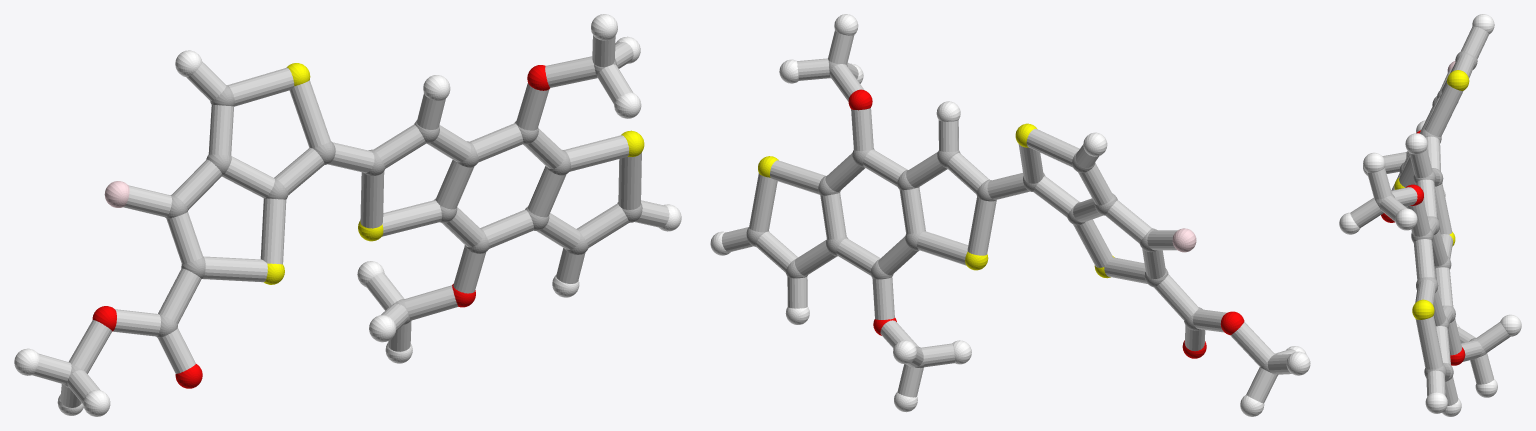
File: Dimethoxy_Benzodithiophene_Phi_20_Theta_30_Methylcarbonyl_3_Fluoro_Thienothiophene.glb
3 views of the same model, side by side, from view 1: azimuth 30°, elevation 25°; view 2: azimuth 150°, elevation 25°; view 3: azimuth 270°, elevation 25° (orthographic). The views are drawn at different scales.
Visible parts, largest first — view 1: grp15205, grp8689, grp1, grp13395, grp7241; view 2: grp15205, grp8689, grp1, grp13395, grp7241; view 3: grp15205, grp8689, grp1, grp7241, grp13395.
Boxes of the visible parts, x1,y1,x2,y2 form: grp15205: [32, 35, 669, 407]; grp8689: [14, 14, 681, 416]; grp1: [64, 59, 642, 387]; grp13395: [92, 65, 549, 388]; grp7241: [264, 63, 644, 284]; grp15205: [722, 30, 1296, 403]; grp8689: [710, 14, 1310, 416]; grp1: [746, 61, 1278, 375]; grp13395: [848, 89, 1244, 358]; grp7241: [758, 123, 1114, 278]; grp15205: [1350, 26, 1510, 405]; grp8689: [1339, 14, 1521, 416]; grp1: [1375, 51, 1486, 381]; grp7241: [1394, 70, 1469, 319]; grp13395: [1381, 130, 1465, 365].
Size of the model in its own units: 16.99 by 8.84 by 4.91.
